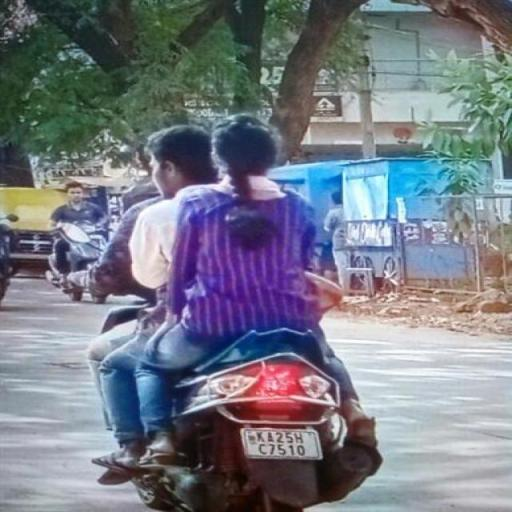tripple riding: (58, 112, 336, 363)
